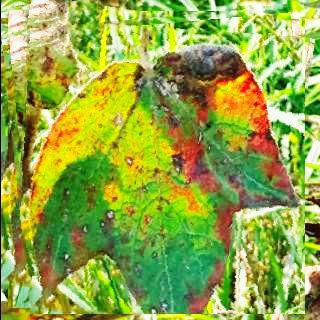blight: (0, 4, 304, 314)
